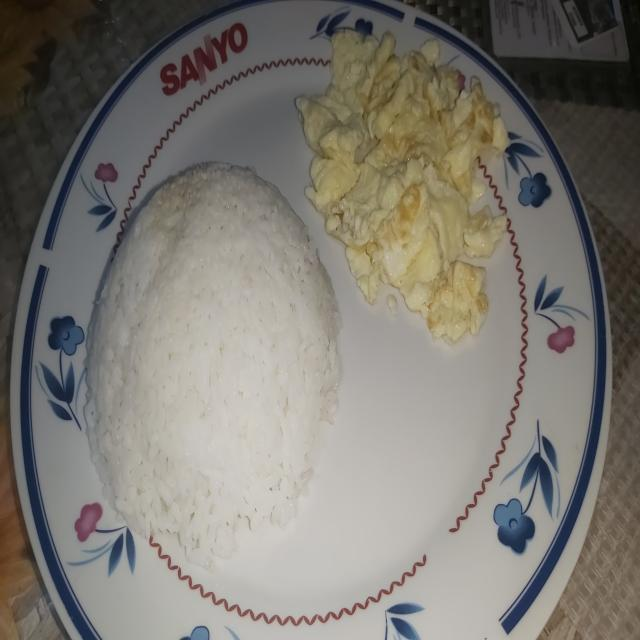Chicken -Chicken Inasal-: (80, 159, 335, 542)
